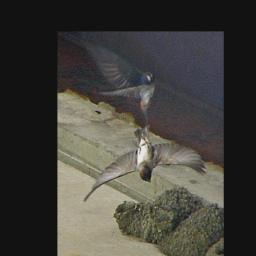Swallow: (81, 122, 209, 204)
